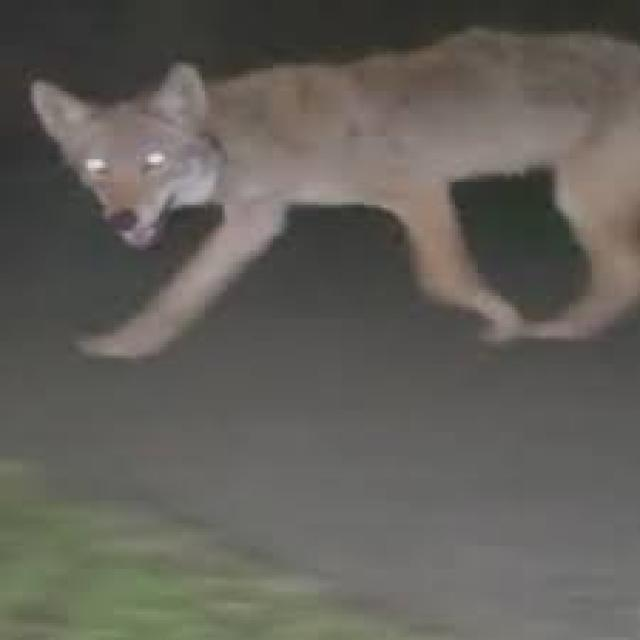Coyote: (25, 18, 640, 358)
